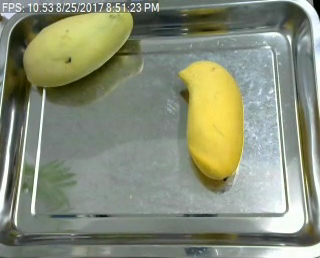Mango: (16, 4, 140, 95), (180, 50, 250, 184)
